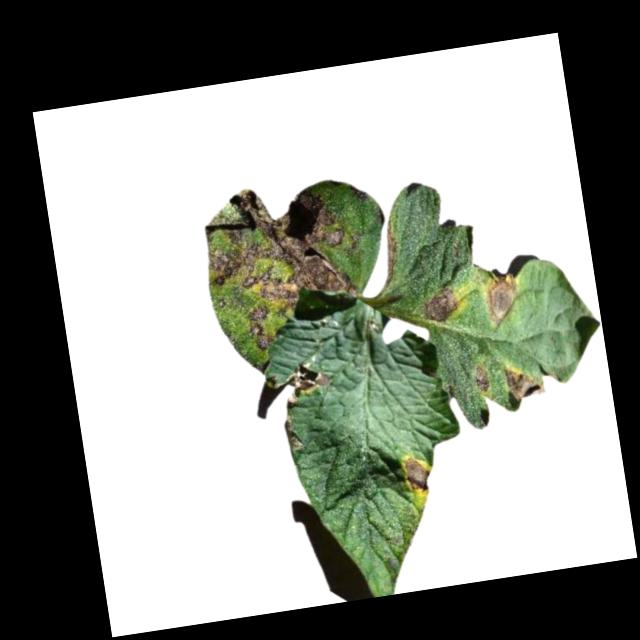Early_blight: (194, 173, 366, 314), (481, 267, 525, 331), (285, 359, 332, 405), (501, 359, 548, 401), (376, 220, 404, 286), (420, 284, 463, 324), (400, 453, 436, 497), (247, 307, 276, 354), (472, 366, 495, 397)
